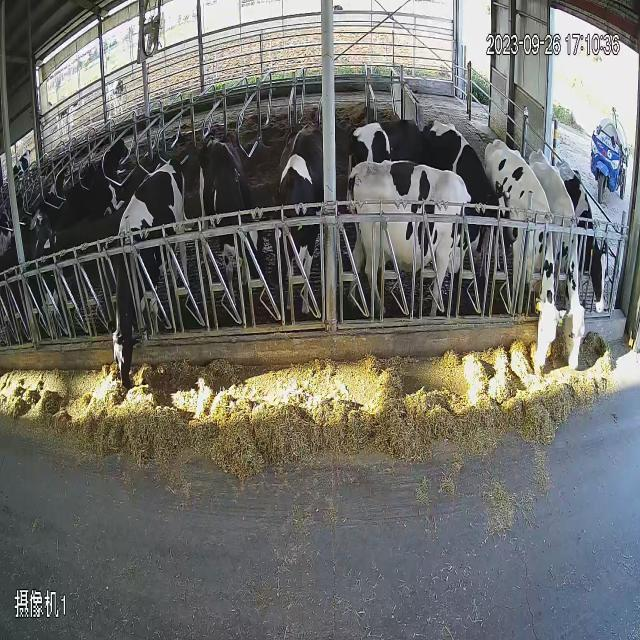feeding: (104, 144, 192, 425), (484, 132, 570, 408), (523, 139, 589, 401)
lying down: (81, 115, 138, 228)
standing: (342, 152, 496, 346), (190, 121, 270, 329), (268, 111, 330, 335), (552, 156, 616, 341), (26, 195, 80, 354), (0, 135, 40, 199)
